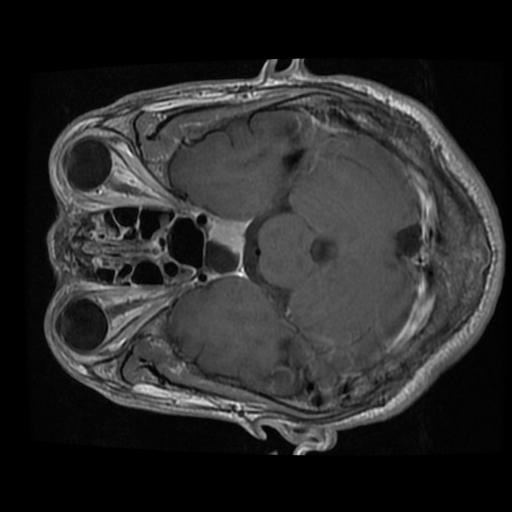pituitary tumour: (206, 215, 249, 250)
